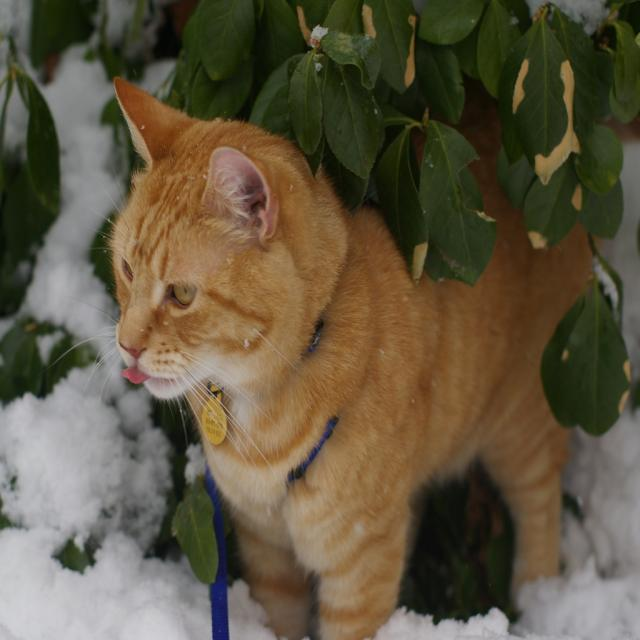Cat: (42, 74, 597, 638)
